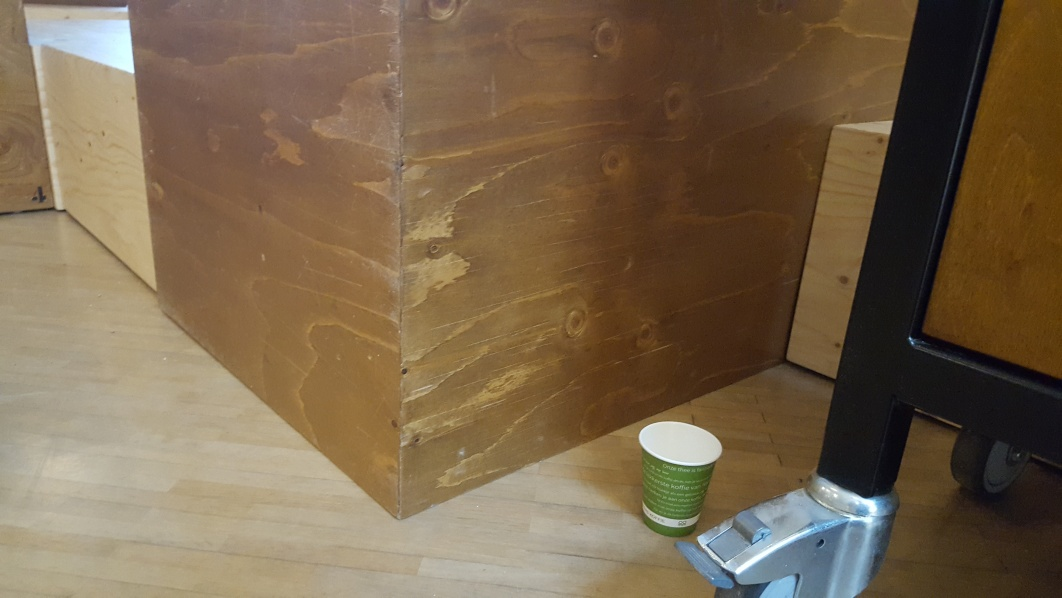cup: (637, 419, 721, 540)
